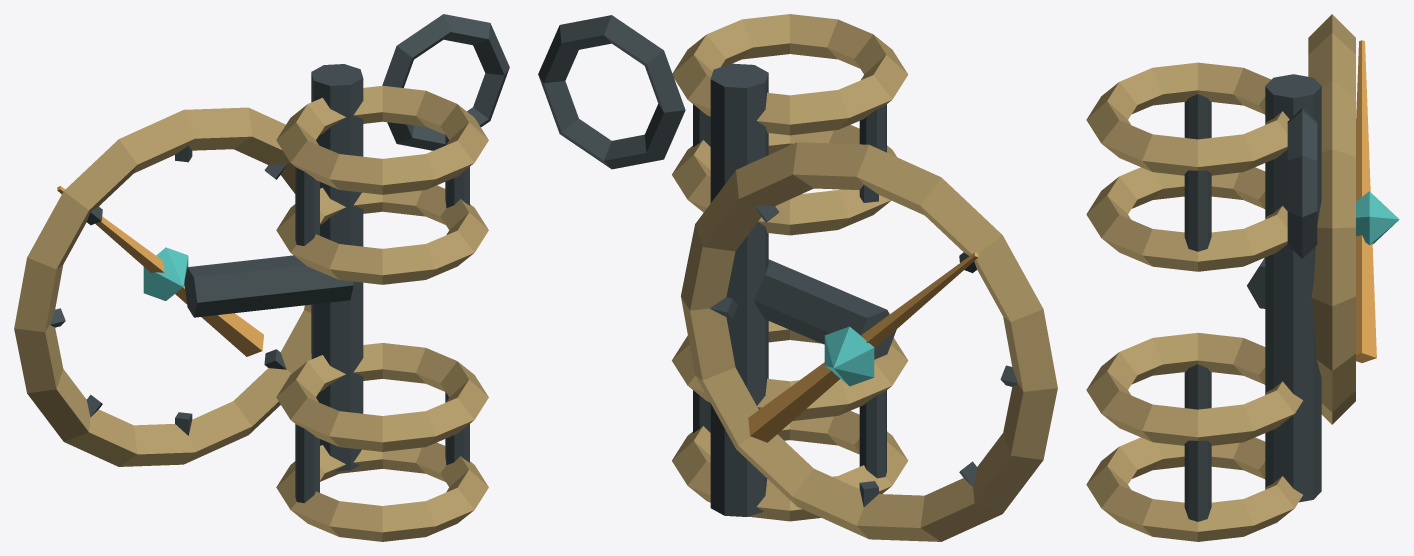
The model's file is Equip_SurveyDial.fbx.
The picture shows the model from 3 angles, left to right: view 1: azimuth 30°, elevation 25°; view 2: azimuth 150°, elevation 25°; view 3: azimuth 270°, elevation 25°; orthographic projection. The views are drawn at different scales.
Visible parts, largest first — view 1: Equip_SurveyDial; view 2: Equip_SurveyDial; view 3: Equip_SurveyDial.
Part boxes in pixels (x1,y1,x2,y2): Equip_SurveyDial: (14, 14, 509, 541); Equip_SurveyDial: (538, 14, 1057, 541); Equip_SurveyDial: (1086, 14, 1399, 541).
Bounding box in the file's own units: 0.392 × 0.333 × 0.2103.
